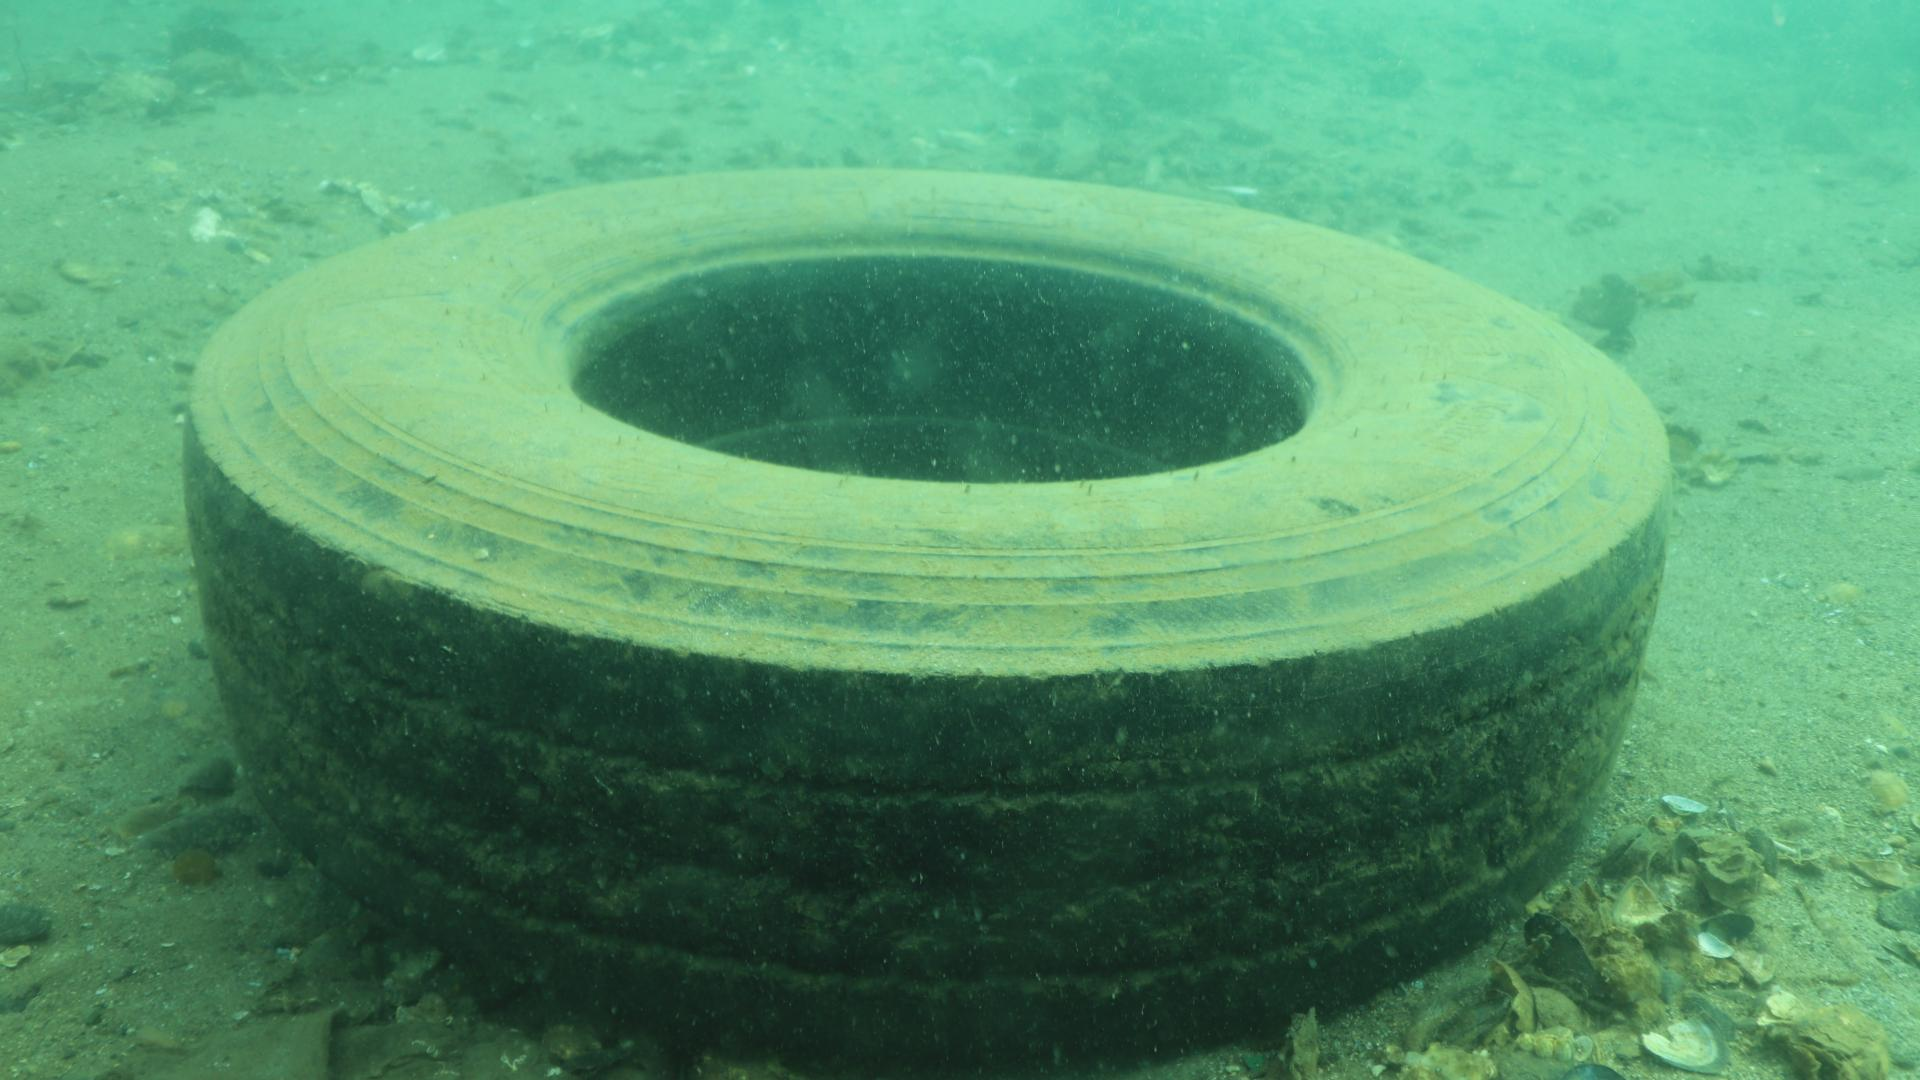tire: (181, 167, 1673, 1059)
